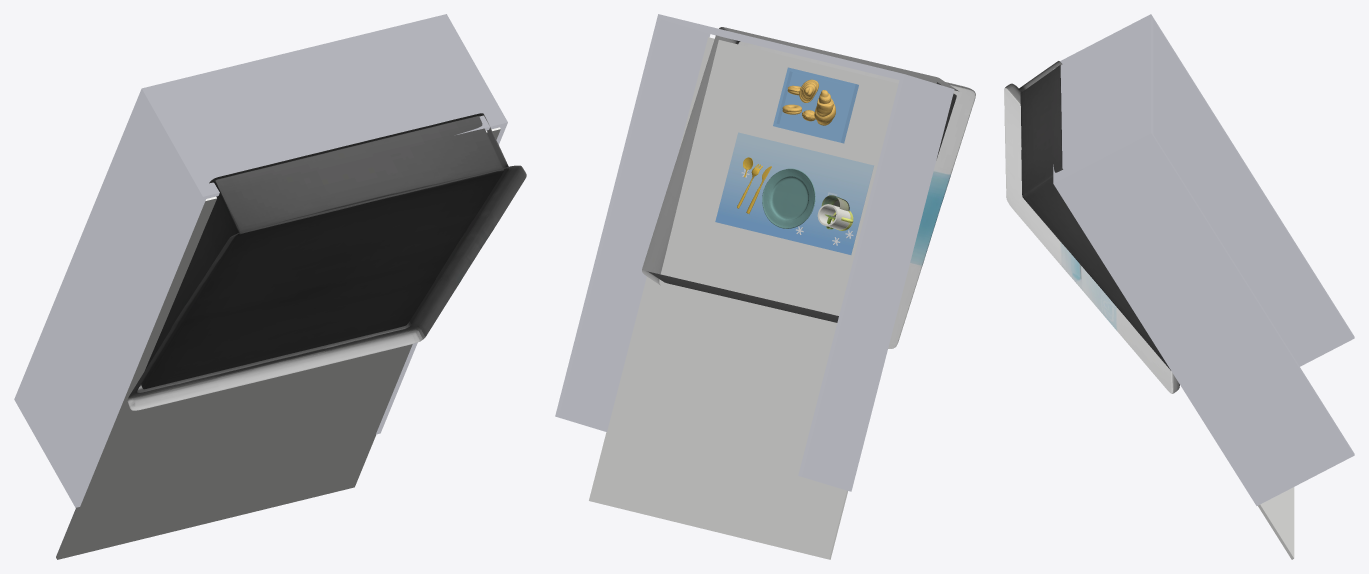
Rendered from viga.glb.
3 renders of one model, left to right at view 1: azimuth 30°, elevation 25°; view 2: azimuth 150°, elevation 25°; view 3: azimuth 270°, elevation 25°, orthographic. The views are drawn at different scales.
Parts seen in each view (by area): view 1: white_table_mesh, env_table_top, env_wall_back, env_wall_right; view 2: env_table_top, env_wall_right, env_wall_left, white_table_mesh, mat_plane, teal_plate_mesh, tray_floor, env_wall_back, mug_body, large_croissant_mesh; view 3: env_wall_left, env_wall_right, white_table_mesh, env_wall_back, env_table_top.
Part boxes in pixels (x1=…): white_table_mesh: x1=127, y1=113, x2=526, y2=410; env_table_top: x1=56, y1=127, x2=500, y2=559; env_wall_back: x1=140, y1=14, x2=507, y2=199; env_wall_right: x1=14, y1=92, x2=205, y2=507; env_table_top: x1=589, y1=37, x2=898, y2=559; env_wall_right: x1=798, y1=77, x2=953, y2=491; env_wall_left: x1=555, y1=18, x2=710, y2=431; white_table_mesh: x1=642, y1=27, x2=975, y2=348; mat_plane: x1=715, y1=132, x2=873, y2=254; teal_plate_mesh: x1=762, y1=168, x2=815, y2=228; tray_floor: x1=779, y1=72, x2=854, y2=143; env_wall_back: x1=657, y1=14, x2=954, y2=93; mug_body: x1=817, y1=204, x2=850, y2=229; large_croissant_mesh: x1=814, y1=90, x2=835, y2=125; env_wall_left: x1=1055, y1=135, x2=1354, y2=505; env_wall_right: x1=1153, y1=18, x2=1354, y2=366; white_table_mesh: x1=1004, y1=61, x2=1179, y2=393; env_wall_back: x1=1053, y1=14, x2=1153, y2=186; env_table_top: x1=1258, y1=487, x2=1294, y2=559.
Size of the model in its own units: 1.6 by 2.69 by 1.99.
13 materials, 3 textured.
